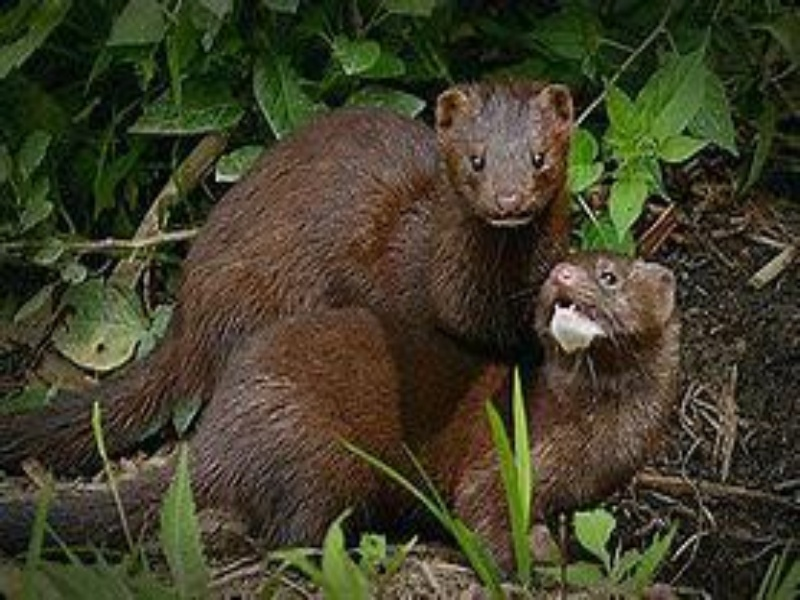minkish: (1, 72, 577, 484), (1, 248, 695, 571)
